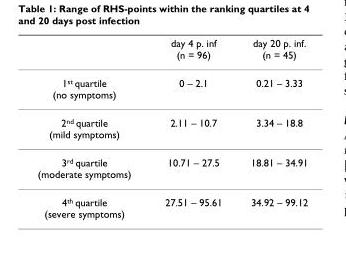table: (36, 36, 307, 219)
table column: (36, 36, 147, 219), (147, 36, 235, 219), (235, 36, 307, 219)
table column header: (36, 36, 307, 68)
table row: (36, 68, 307, 108), (36, 147, 307, 187), (36, 108, 307, 147), (36, 36, 307, 68), (36, 187, 307, 219)
